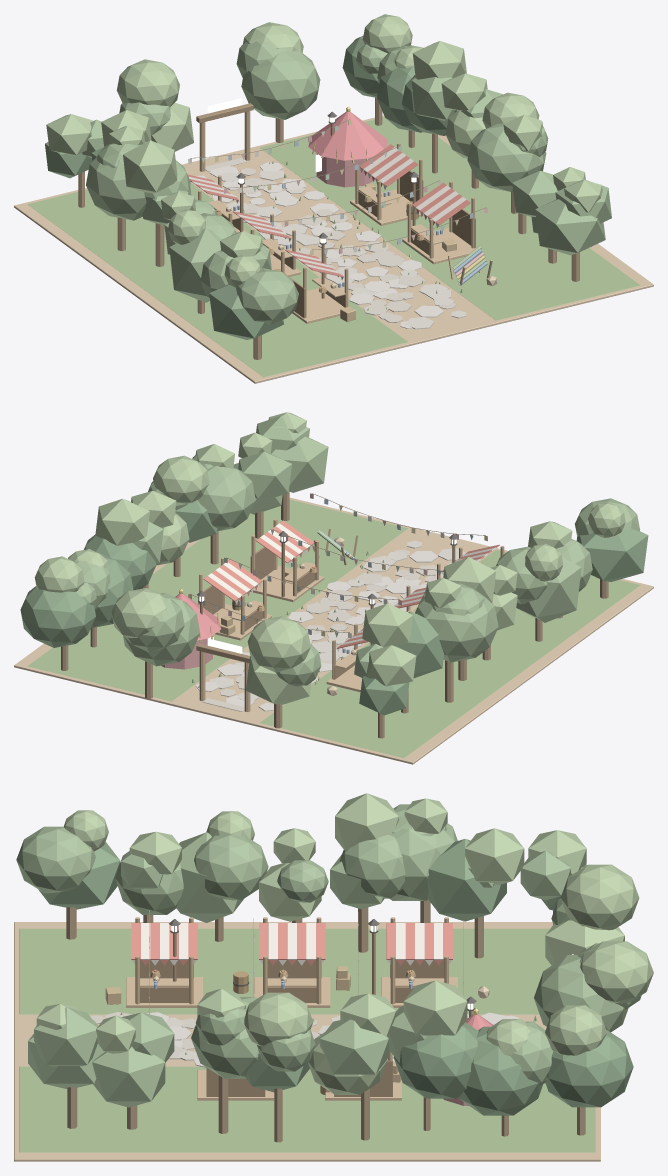
Rendered from echo_world_market_street.glb.
3 renders of one model, top to bottom at view 1: azimuth 30°, elevation 25°; view 2: azimuth 150°, elevation 25°; view 3: azimuth 270°, elevation 25°, orthographic. The views are drawn at different scales.
Visible parts, largest first — view 1: GROUND_Grass_R, GROUND_Grass_L, GROUND_MarketStreet, TREE_18_Leaf_1, TREE_11_Leaf_1, TREE_09_Leaf_1, TREE_01_Leaf_2, TENT_Roof, TREE_06_Leaf_1, TREE_17_Leaf_3, TREE_05_Leaf_3, TREE_03_Leaf_1 (+37 smaller); view 2: GROUND_Grass_R, GROUND_Grass_L, GROUND_MarketStreet, TREE_16_Leaf_1, TREE_06_Leaf_1, TREE_17_Leaf_3, TREE_11_Leaf_1, TREE_01_Leaf_1, TREE_03_Leaf_1, TREE_12_Leaf_3, TREE_18_Leaf_3, TREE_14_Leaf_3 (+37 smaller); view 3: GROUND_Grass_R, GROUND_Grass_L, GROUND_MarketStreet, TREE_16_Leaf_1, TREE_14_Leaf_1, TREE_15_Leaf_1, TREE_17_Leaf_3, TREE_01_Leaf_2, TREE_07_Leaf_1, TREE_03_Leaf_2, TREE_18_Leaf_3, TREE_10_Leaf_1 (+49 smaller).
Boxes of the visible parts, x1=… form: GROUND_Grass_R: x1=260, y1=117, x2=640, y2=320; GROUND_Grass_L: x1=27, y1=183, x2=407, y2=377; GROUND_MarketStreet: x1=14, y1=115, x2=653, y2=383; TREE_18_Leaf_1: x1=241, y1=50, x2=320, y2=119; TREE_11_Leaf_1: x1=467, y1=123, x2=546, y2=191; TREE_09_Leaf_1: x1=535, y1=199, x2=605, y2=255; TREE_01_Leaf_2: x1=236, y1=268, x2=298, y2=325; TENT_Roof: x1=308, y1=111, x2=387, y2=160; TREE_06_Leaf_1: x1=86, y1=156, x2=146, y2=220; TREE_17_Leaf_3: x1=116, y1=59, x2=179, y2=106; TREE_05_Leaf_3: x1=123, y1=140, x2=177, y2=193; TREE_03_Leaf_1: x1=169, y1=228, x2=221, y2=302; GROUND_Grass_R: x1=27, y1=499, x2=407, y2=701; GROUND_Grass_L: x1=260, y1=550, x2=640, y2=757; GROUND_MarketStreet: x1=14, y1=497, x2=653, y2=764; TREE_16_Leaf_1: x1=20, y1=586, x2=95, y2=647; TREE_06_Leaf_1: x1=415, y1=592, x2=498, y2=662; TREE_17_Leaf_3: x1=247, y1=616, x2=310, y2=672; TREE_11_Leaf_1: x1=197, y1=466, x2=255, y2=531; TREE_01_Leaf_1: x1=576, y1=528, x2=648, y2=581; TREE_03_Leaf_1: x1=516, y1=557, x2=581, y2=622; TREE_12_Leaf_3: x1=153, y1=455, x2=209, y2=503; TREE_18_Leaf_3: x1=111, y1=588, x2=167, y2=637; TREE_14_Leaf_3: x1=95, y1=498, x2=149, y2=545; GROUND_Grass_R: x1=19, y1=1066, x2=595, y2=1152; GROUND_Grass_L: x1=19, y1=928, x2=551, y2=1014; GROUND_MarketStreet: x1=14, y1=922, x2=600, y2=1161; TREE_16_Leaf_1: x1=545, y1=1029, x2=633, y2=1107; TREE_14_Leaf_1: x1=393, y1=1022, x2=478, y2=1098; TREE_15_Leaf_1: x1=458, y1=1026, x2=542, y2=1115; TREE_17_Leaf_3: x1=560, y1=864, x2=639, y2=930; TREE_01_Leaf_2: x1=16, y1=826, x2=95, y2=893; TREE_07_Leaf_1: x1=427, y1=839, x2=506, y2=921; TREE_03_Leaf_2: x1=194, y1=834, x2=268, y2=900; TREE_18_Leaf_3: x1=580, y1=941, x2=653, y2=1003; TREE_10_Leaf_1: x1=92, y1=1046, x2=165, y2=1107.
Bounding box in the file's own units: 22.83 × 6.79 × 25.08.
